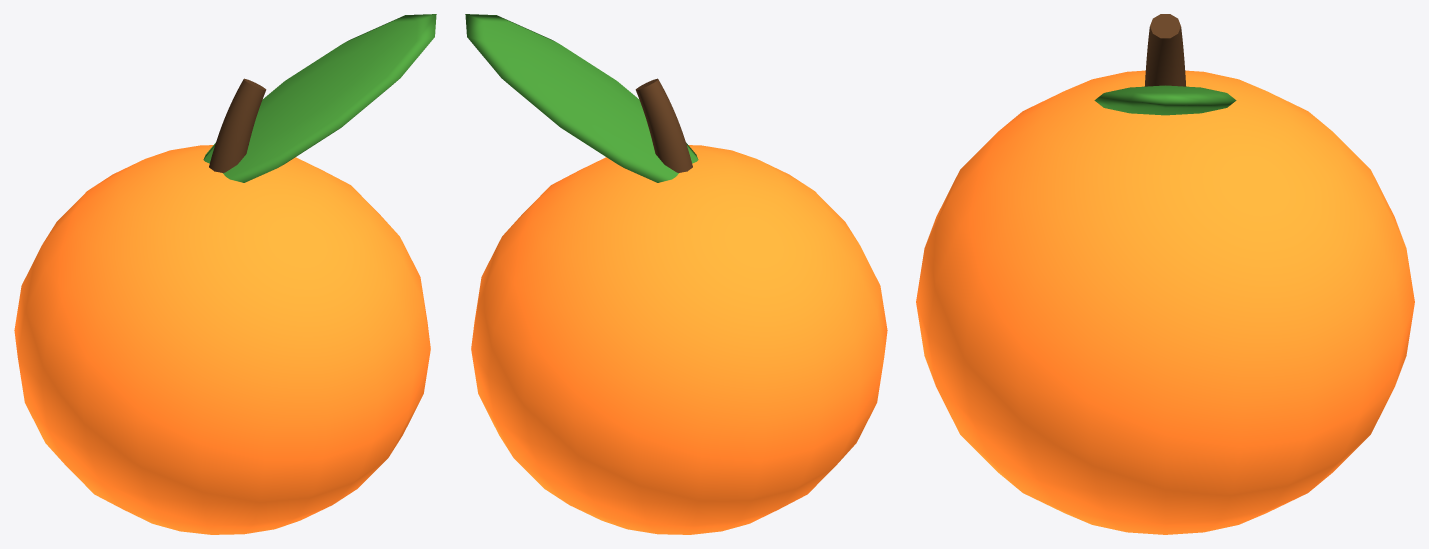
The model's file is LanternFig.fbx.
3 views of the same model, side by side, from view 1: azimuth 30°, elevation 25°; view 2: azimuth 150°, elevation 25°; view 3: azimuth 270°, elevation 25° (orthographic). The views are drawn at different scales.
Visible parts, largest first — view 1: Handle, Leaf, Twig; view 2: Handle, Leaf, Twig; view 3: Handle, Leaf, Twig.
Part boxes in pixels (box(x1,y1,x2,y2)): Handle: box(14, 145, 430, 534); Leaf: box(203, 14, 436, 182); Twig: box(209, 78, 266, 172); Handle: box(471, 145, 887, 534); Leaf: box(465, 14, 698, 182); Twig: box(635, 78, 692, 172); Handle: box(916, 70, 1414, 534); Leaf: box(1094, 85, 1236, 115); Twig: box(1144, 14, 1186, 86).
Bounding box in the file's own units: 1.22 × 1.32 × 1.12.
